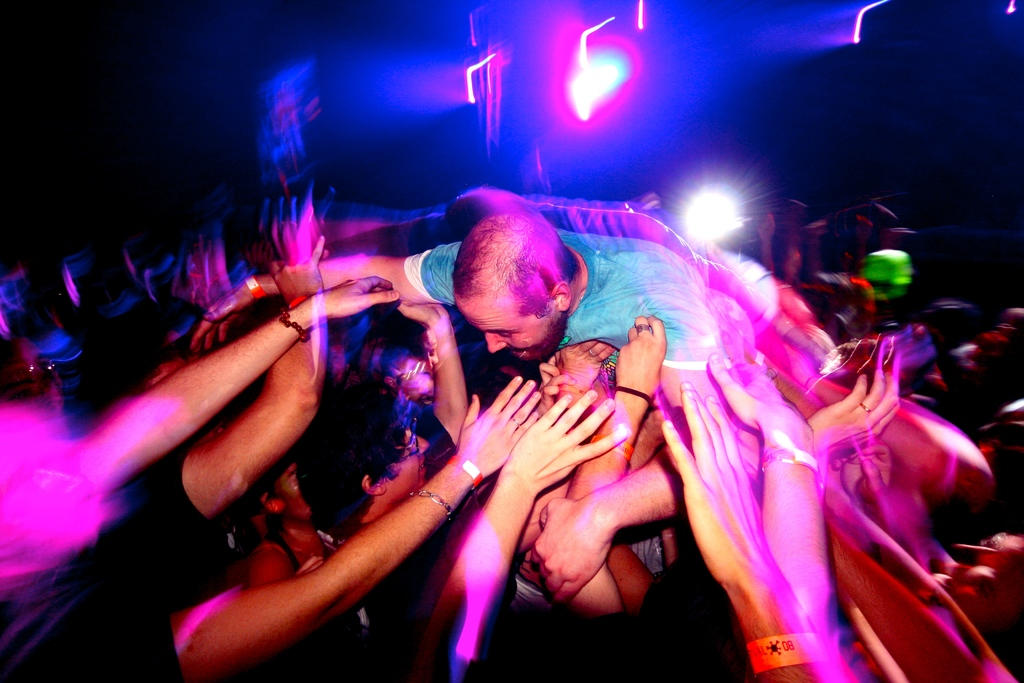Person: (0, 184, 1024, 683)
